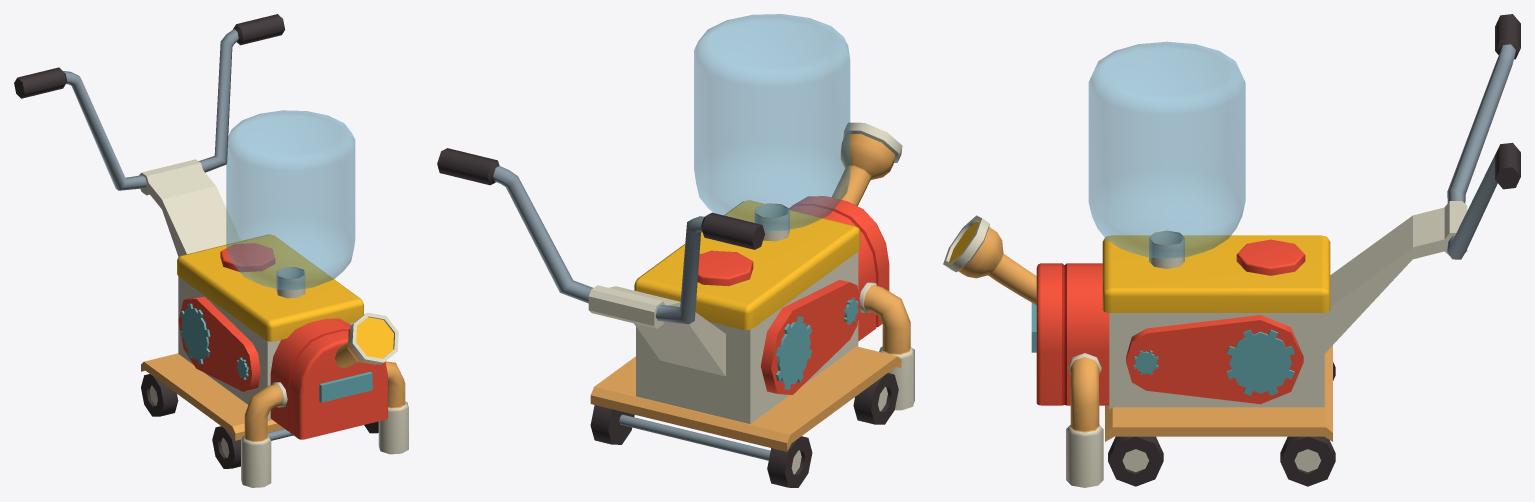
File: water_pumps.fbx
The picture shows the model from 3 angles, left to right: view 1: azimuth 30°, elevation 25°; view 2: azimuth 150°, elevation 25°; view 3: azimuth 270°, elevation 25°; orthographic projection. The views are drawn at different scales.
Visible parts, largest first — view 1: water_pumps; view 2: water_pumps; view 3: water_pumps.
Part boxes in pixels (box(x1,y1,x2,y2)): water_pumps: box(14, 14, 408, 487); water_pumps: box(437, 14, 914, 487); water_pumps: box(943, 14, 1520, 487).
Bounding box in the file's own units: 2.37 × 2.67 × 3.77.
